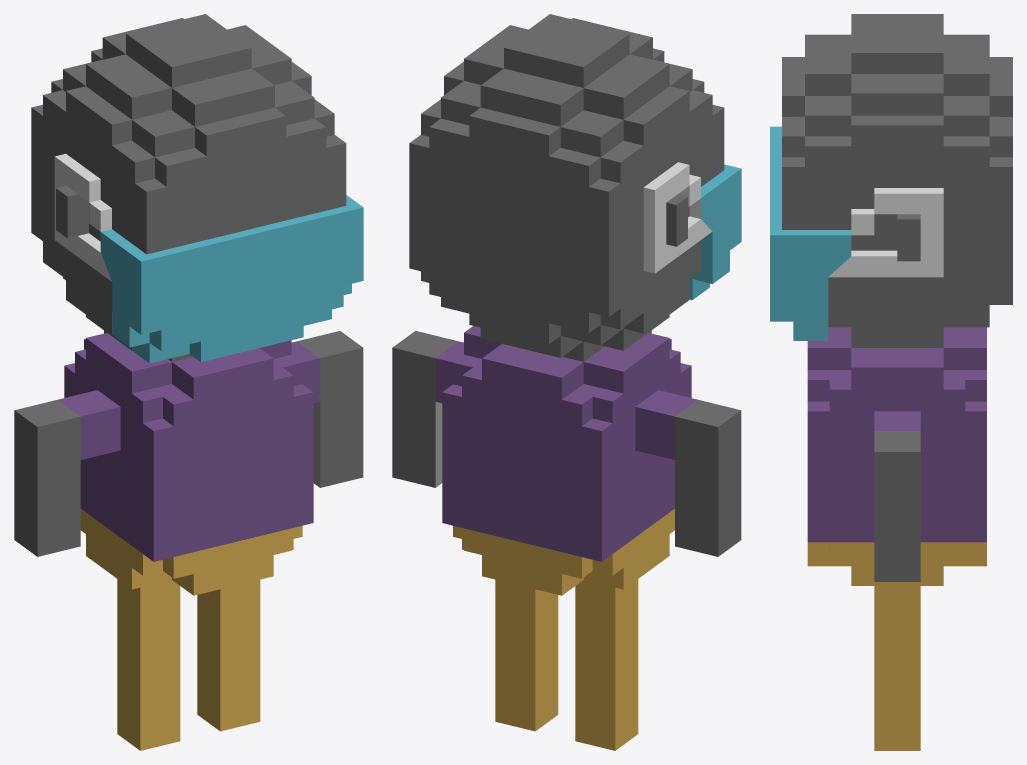
Rendered from Customer1_Model.fbx.
The picture shows the model from 3 angles, left to right: view 1: azimuth 30°, elevation 25°; view 2: azimuth 150°, elevation 25°; view 3: azimuth 270°, elevation 25°; orthographic projection.
Visible parts, largest first — view 1: Body_C1, Mask_C1, Leg_Right_C1, Arm_Right_C1, Leg_Left_C1, Arm_Left_C1; view 2: Body_C1, Leg_Right_C1, Arm_Right_C1, Leg_Left_C1, Mask_C1, Arm_Left_C1; view 3: Body_C1, Mask_C1, Leg_Left_C1, Arm_Left_C1.
Part boxes in pixels (left/top/right/bottom): Body_C1: left=31, top=14, right=346, bottom=595; Mask_C1: left=54, top=153, right=363, bottom=363; Leg_Right_C1: left=117, top=579, right=180, bottom=750; Arm_Right_C1: left=14, top=400, right=80, bottom=556; Leg_Left_C1: left=197, top=579, right=260, bottom=731; Arm_Left_C1: left=297, top=331, right=363, bottom=487; Body_C1: left=409, top=14, right=724, bottom=595; Leg_Right_C1: left=575, top=579, right=638, bottom=750; Arm_Right_C1: left=675, top=399, right=741, bottom=556; Leg_Left_C1: left=495, top=579, right=558, bottom=731; Mask_C1: left=643, top=162, right=741, bottom=299; Arm_Left_C1: left=392, top=331, right=457, bottom=487; Body_C1: left=782, top=14, right=1012, bottom=585; Mask_C1: left=770, top=126, right=943, bottom=340; Leg_Left_C1: left=874, top=586, right=920, bottom=750; Arm_Left_C1: left=874, top=431, right=920, bottom=581.
Bounding box in the file's own units: 1.63 × 3.29 × 1.05.
